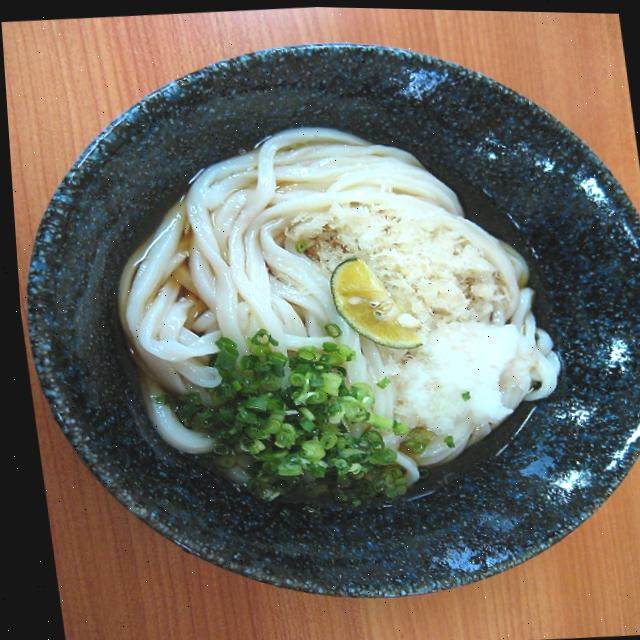面条主食: (1, 19, 640, 621)
